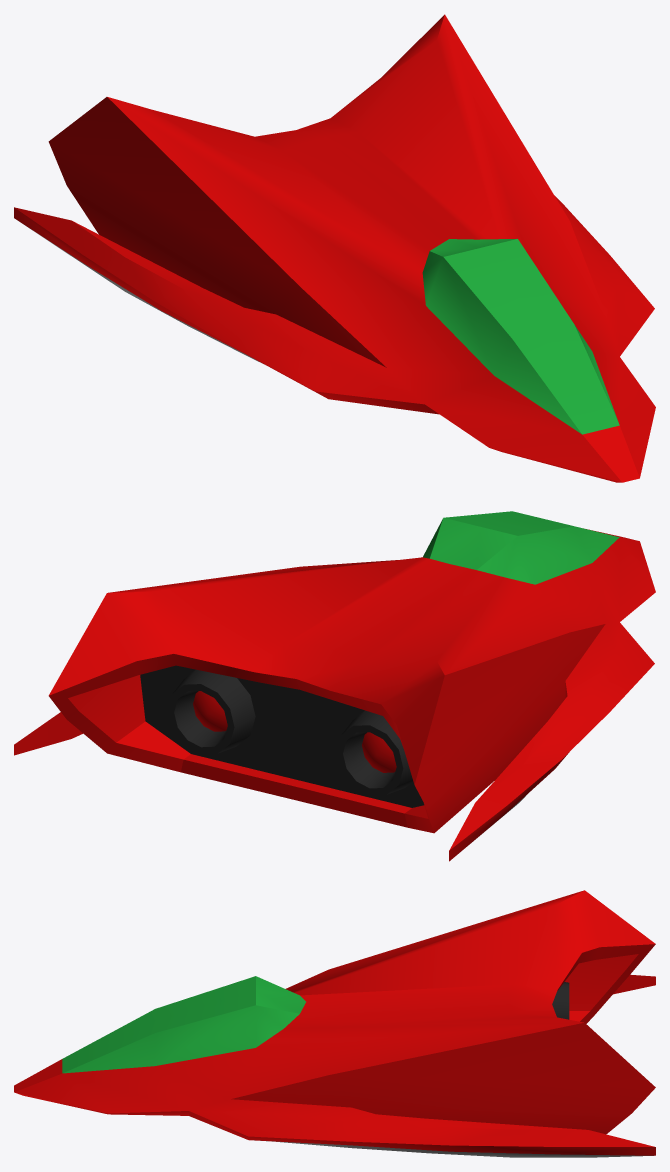
Rendered from Swallow_TEST2.fbx.
3 renders of one model, top to bottom at view 1: azimuth 30°, elevation 25°; view 2: azimuth 150°, elevation 25°; view 3: azimuth 270°, elevation 25°, orthographic. The views are drawn at different scales.
Parts seen in each view (by area): view 1: Cube; view 2: Cube; view 3: Cube.
Part boxes in pixels (left/top/right/bottom): Cube: left=14, top=14, right=655, bottom=482; Cube: left=14, top=511, right=655, bottom=861; Cube: left=14, top=890, right=655, bottom=1157.
Bounding box in the file's own units: 269 × 106 × 428.
